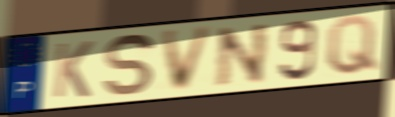9: (279, 18, 318, 81)
K: (51, 39, 96, 100)
N: (215, 21, 272, 89)
Q: (326, 13, 380, 77)
S: (102, 31, 157, 98)
V: (160, 24, 217, 95)
